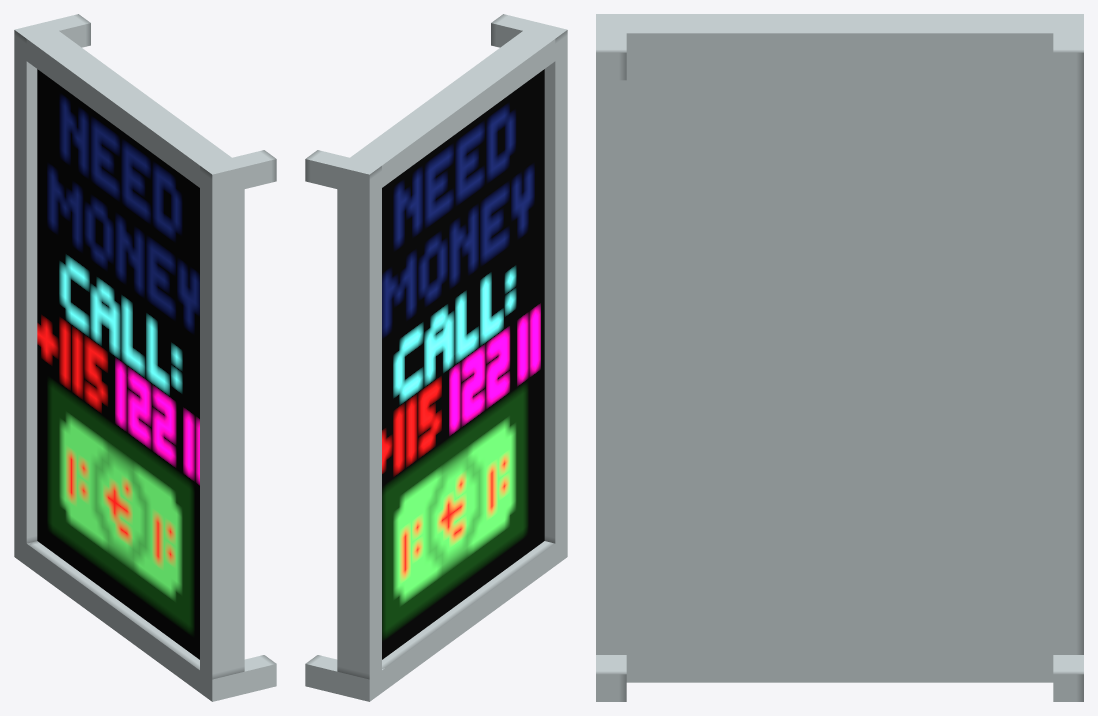
The model's file is neon_bank.dae.
3 renders of one model, left to right at view 1: azimuth 30°, elevation 25°; view 2: azimuth 150°, elevation 25°; view 3: azimuth 270°, elevation 25°, orthographic. The views are drawn at different scales.
Parts seen in each view (by area): view 1: Content; view 2: Content; view 3: Content.
Part boxes in pixels (box(x1,y1,x2,y2)): Content: box(14, 14, 276, 701); Content: box(305, 14, 567, 701); Content: box(596, 14, 1083, 701).
Bounding box in the file's own units: 6 × 47 × 32.
1 material, 1 textured.
